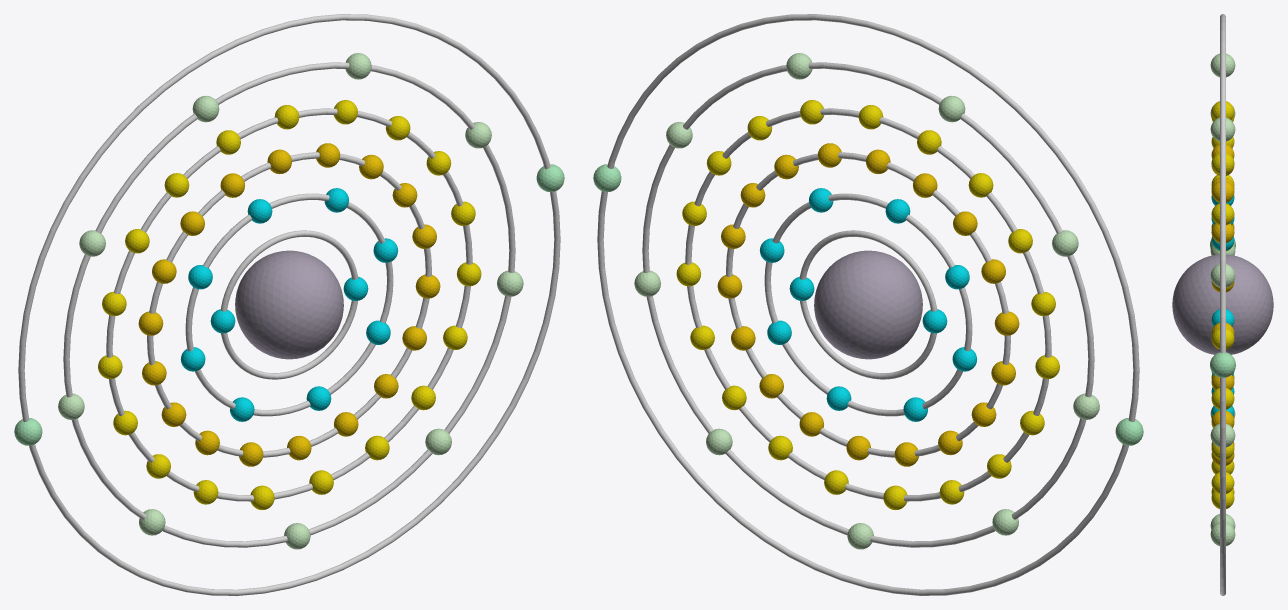
3 views of the same model, side by side, from view 1: azimuth 30°, elevation 25°; view 2: azimuth 150°, elevation 25°; view 3: azimuth 270°, elevation 25° (orthographic). The views are drawn at different scales.
Visible parts, largest first — view 1: world; view 2: world; view 3: world.
Boxes of the visible parts, <box> form: world: <box>14,14,564,595</box>; world: <box>593,14,1143,595</box>; world: <box>1172,14,1273,595</box>.
Bounding box in the file's own units: 2.55 × 2.53 × 0.44.
